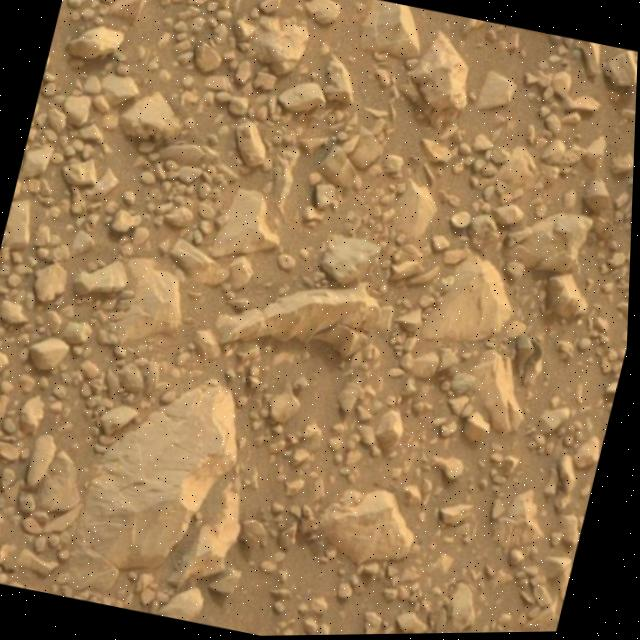mars-rocks: (216, 283, 381, 344), (422, 255, 514, 342), (322, 491, 417, 566), (116, 258, 182, 343), (507, 215, 594, 273), (209, 190, 280, 258), (408, 33, 467, 110)
